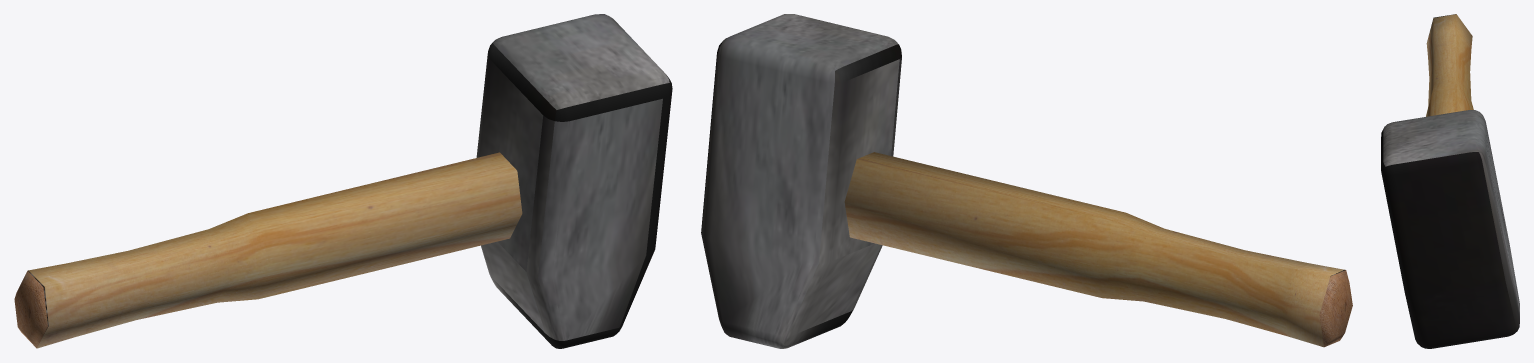
File: hammer_baked.glb
3 views of the same model, side by side, from view 1: azimuth 30°, elevation 25°; view 2: azimuth 150°, elevation 25°; view 3: azimuth 270°, elevation 25° (orthographic). The views are drawn at different scales.
Visible parts, largest first — view 1: Basket; view 2: Basket; view 3: Basket.
Part boxes in pixels (bbox=[...]): Basket: bbox=[14, 14, 672, 348]; Basket: bbox=[701, 14, 1352, 348]; Basket: bbox=[1381, 14, 1519, 348].
Bounding box in the file's own units: 0.4975 × 0.2294 × 0.1359.
1 material, 1 textured.
